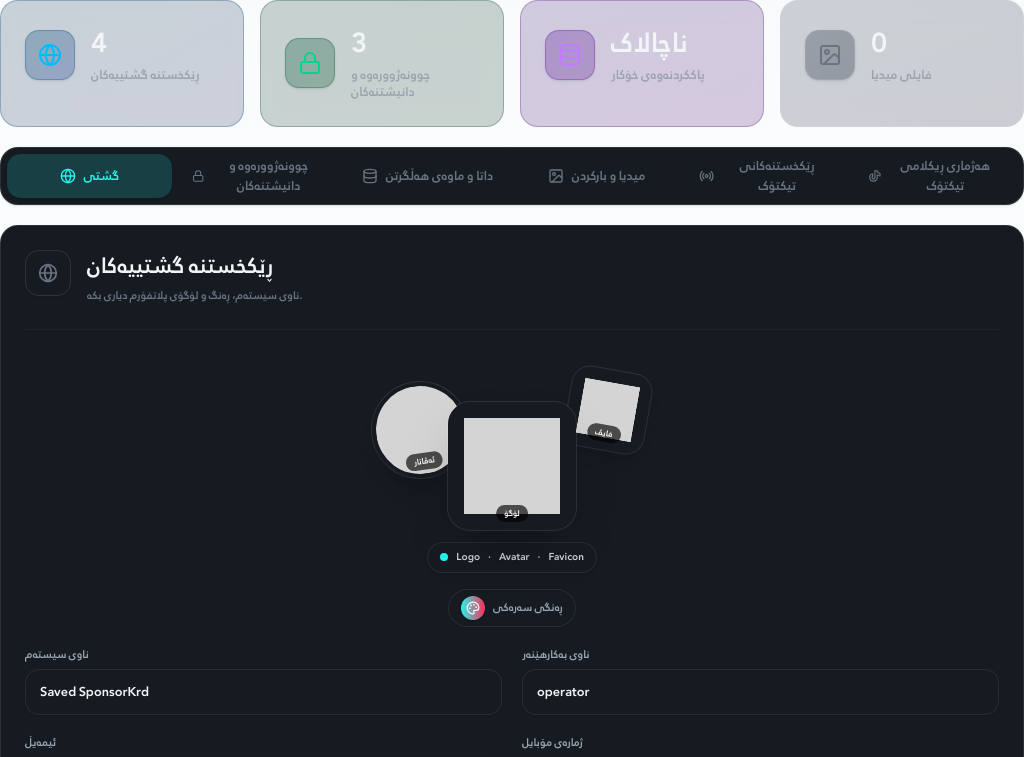
Test: PlatformSettingsPage General tab › loads the enforced media and uploads policy
Expected: the 1st field showing "Saved SponsorKrd" is shown, top-left (25, 668), bottom-right (502, 714)
Step 1. Click the tab "میدیا و بارکردن" → coordinates (596, 176), box top-left (514, 154), bottom-right (679, 198)
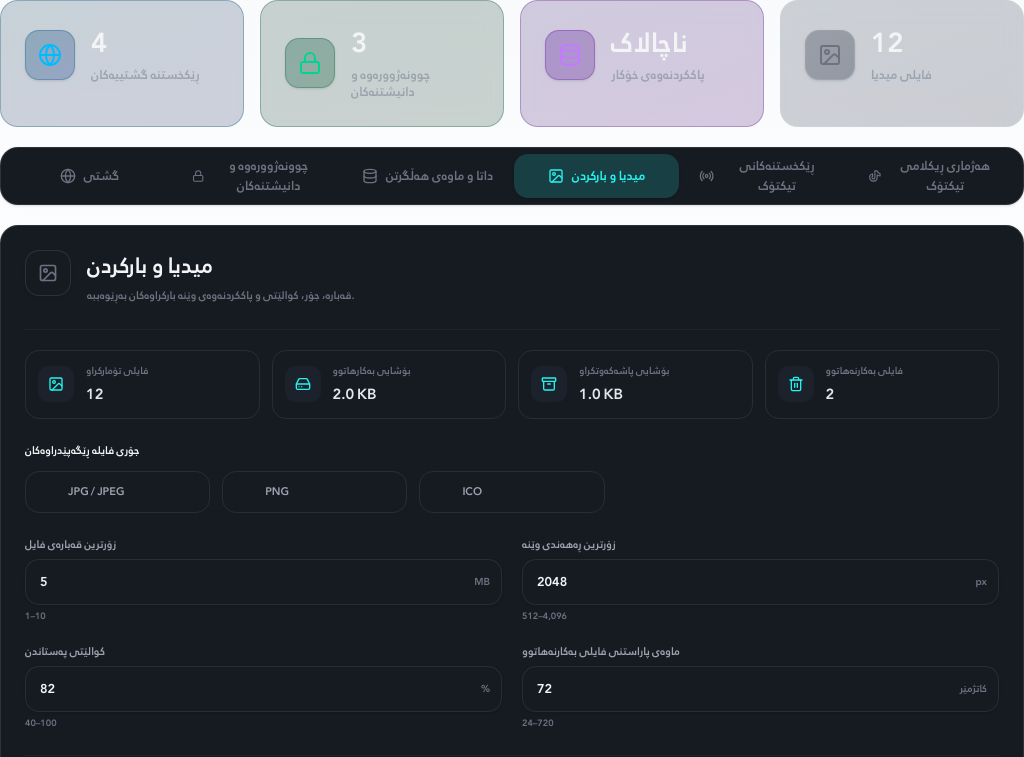
Expected: the text "جۆری فایلە ڕێگەپێدراوەکان" is shown, top-left (25, 440), bottom-right (140, 460)
Expected: the number field showing "2048" next to "px" is shown, top-left (522, 558), bottom-right (999, 604)
